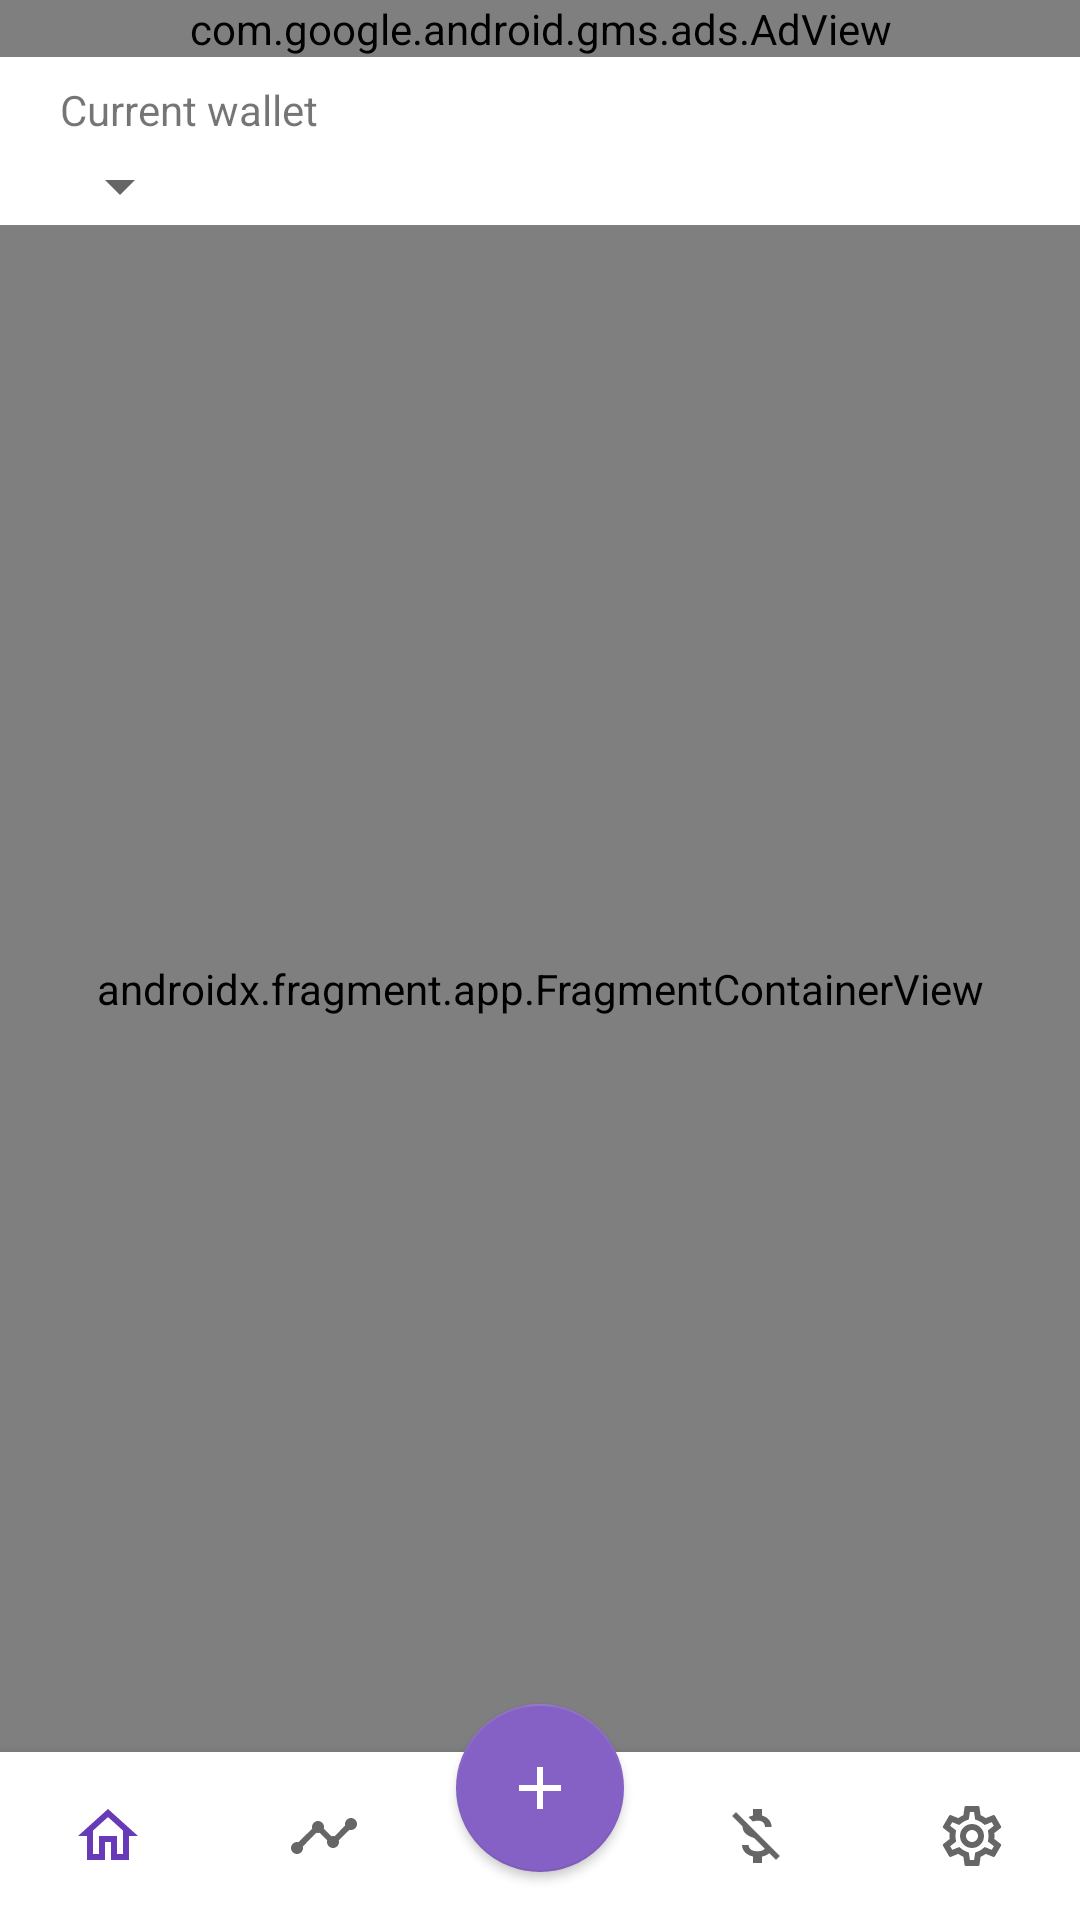

Icons on this 1080x1920 Android screen, each with the point to tap as point (x, y):
add: point (540, 1788)
